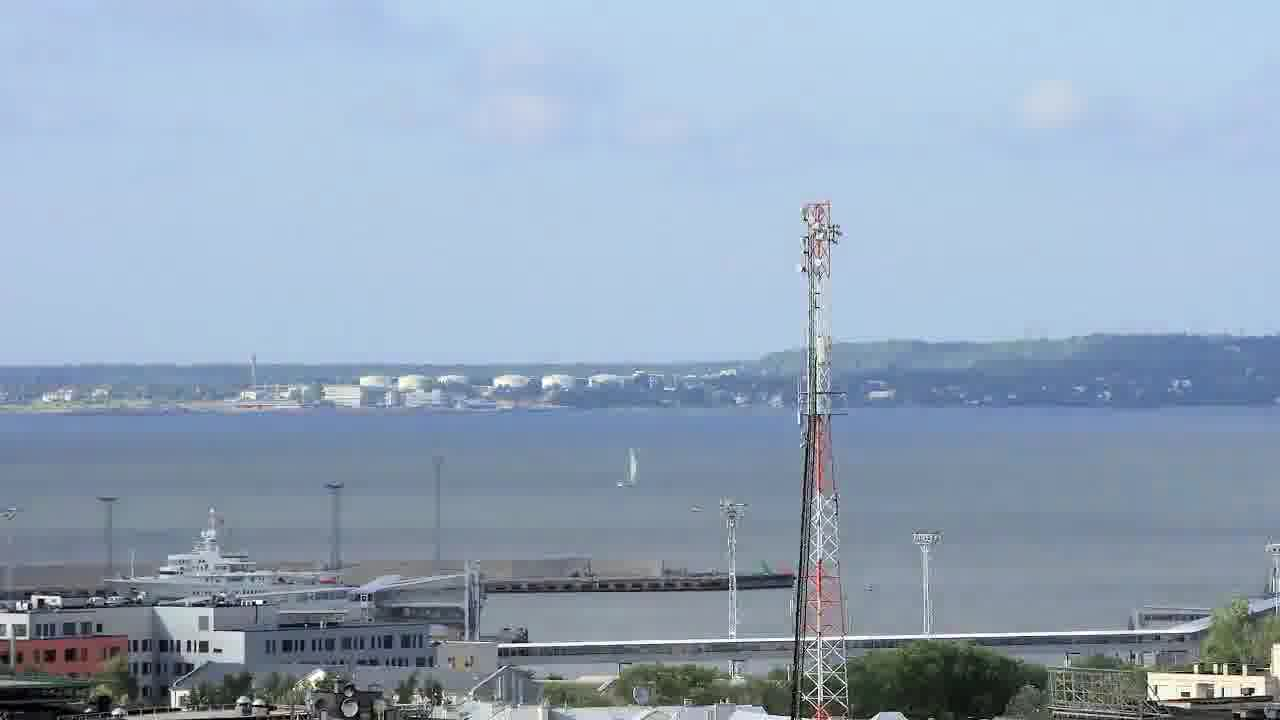type-2: (598, 438, 660, 499)
type-3: (84, 515, 355, 603)
